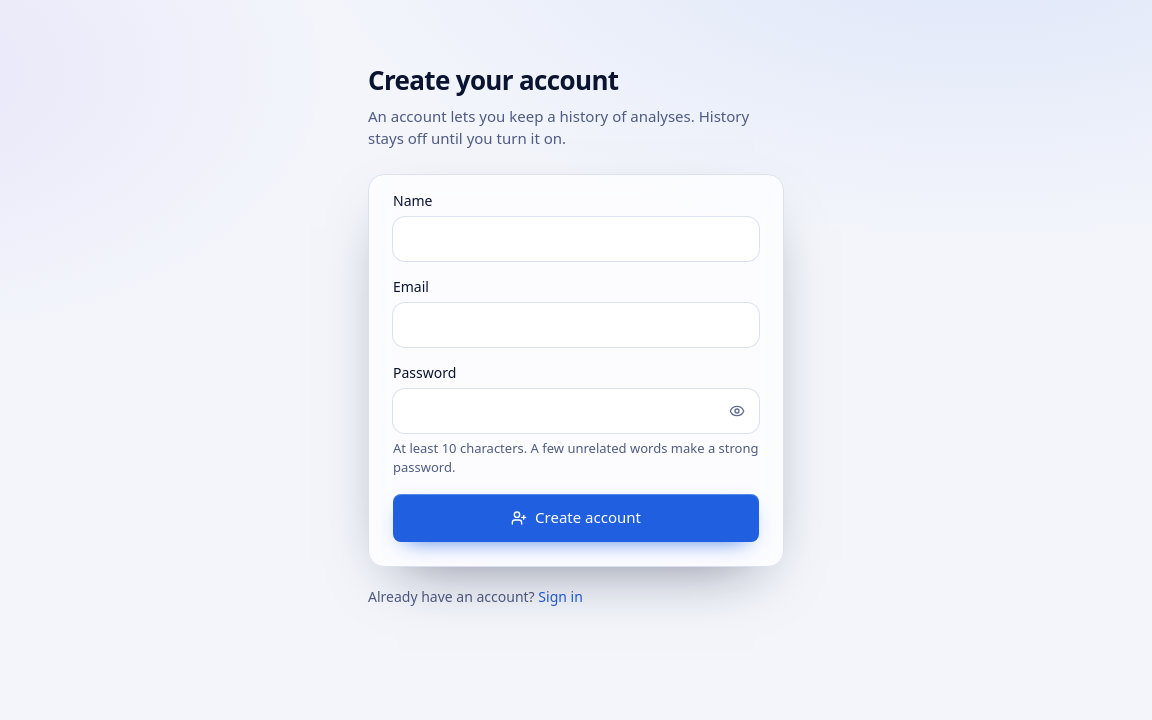
it: AuthForm › validates before sending anything and focuses the first invalid field
Click the button "Create account": (576, 518) [393, 494, 759, 542]
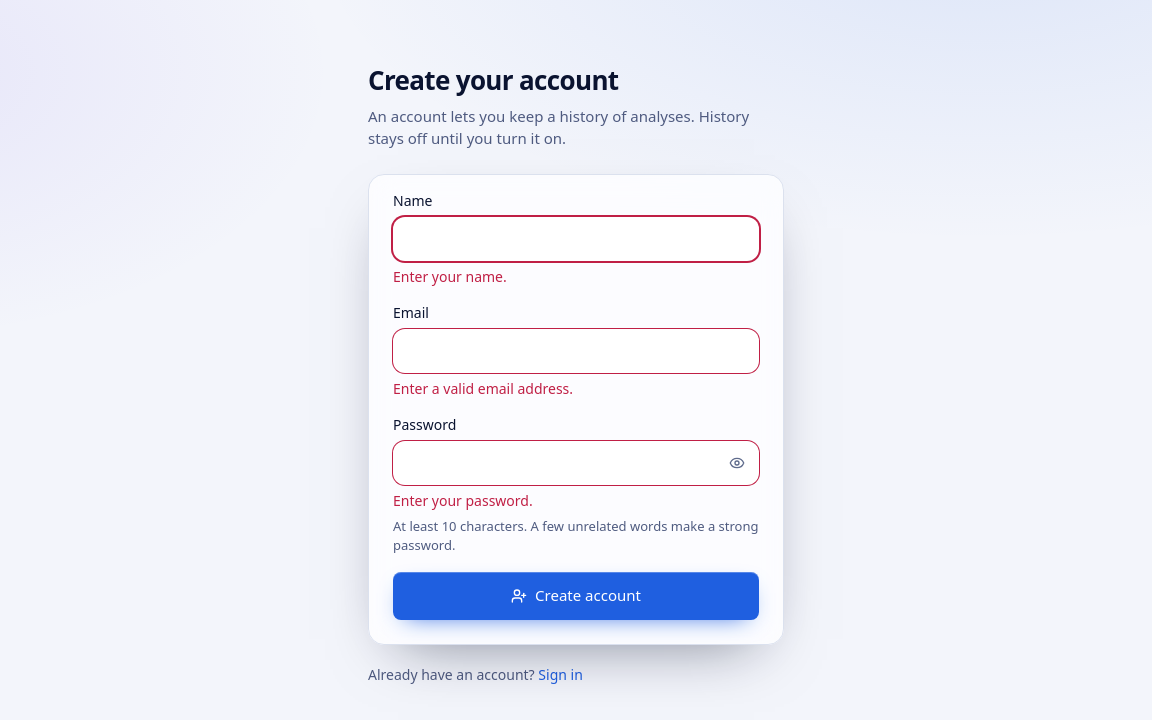
Check: the text "Enter your name." is shown, box [393, 266, 507, 286]
Check: the text "Enter a valid email address." is shown, box [393, 378, 573, 398]
